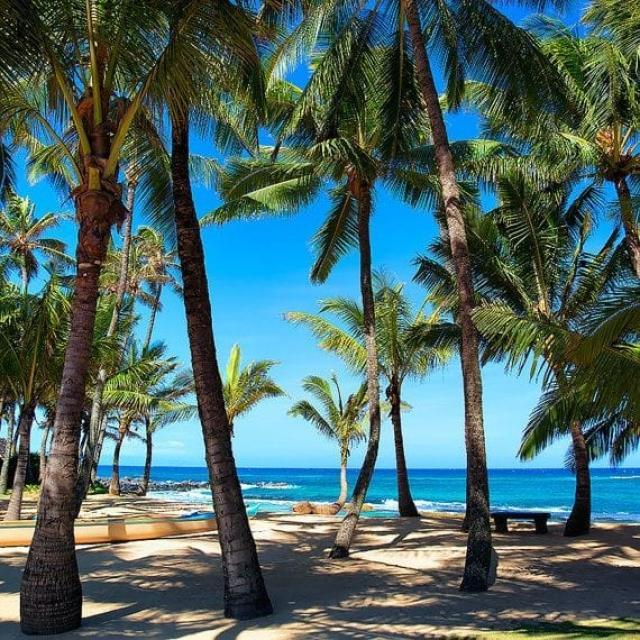Coconut-tree: (348, 11, 578, 619), (54, 65, 213, 621)
